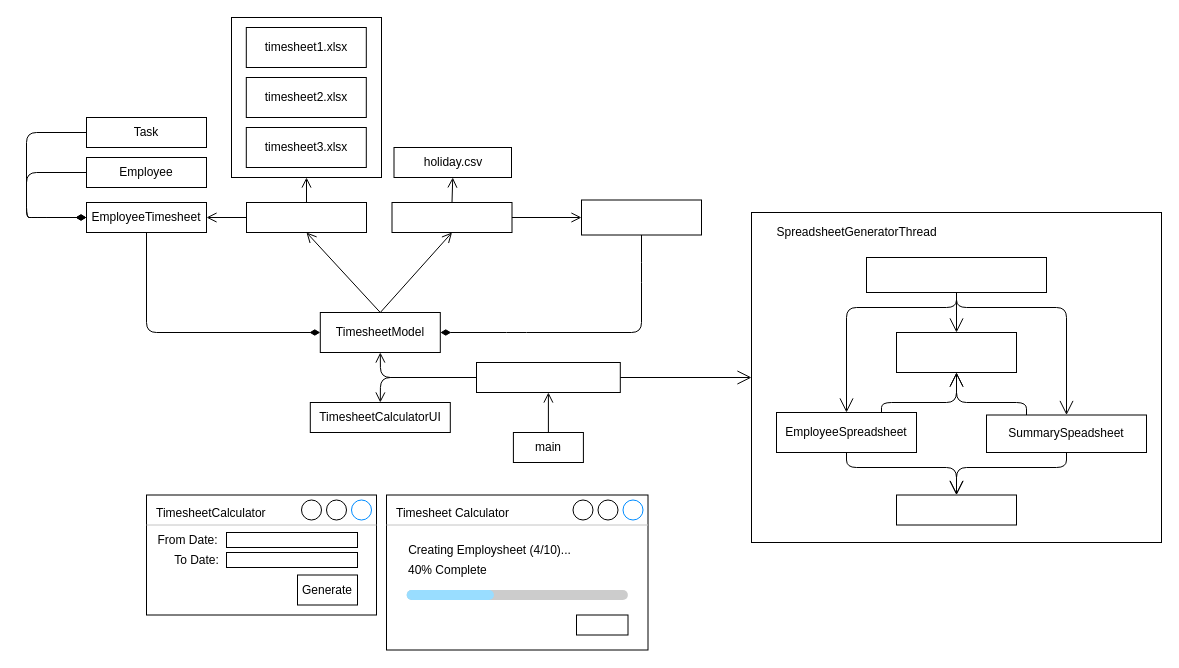
The diagram is 1179 pixels wide and 668 high, and some of its shapes have lost their labels. Here are the shapes that lost their labels. From the top down, the centre of each, then its label:
(306,217): TimesheetParser
(451,217): HolidayParser
(641,217): holiday_list
(956,274): SpreadsheetGeneratorWorker
(956,352): TimesheetWorkbook
(548,377): TimesheetCalculatorCtrl
(956,509): Calculator
(602,624): Cancel
